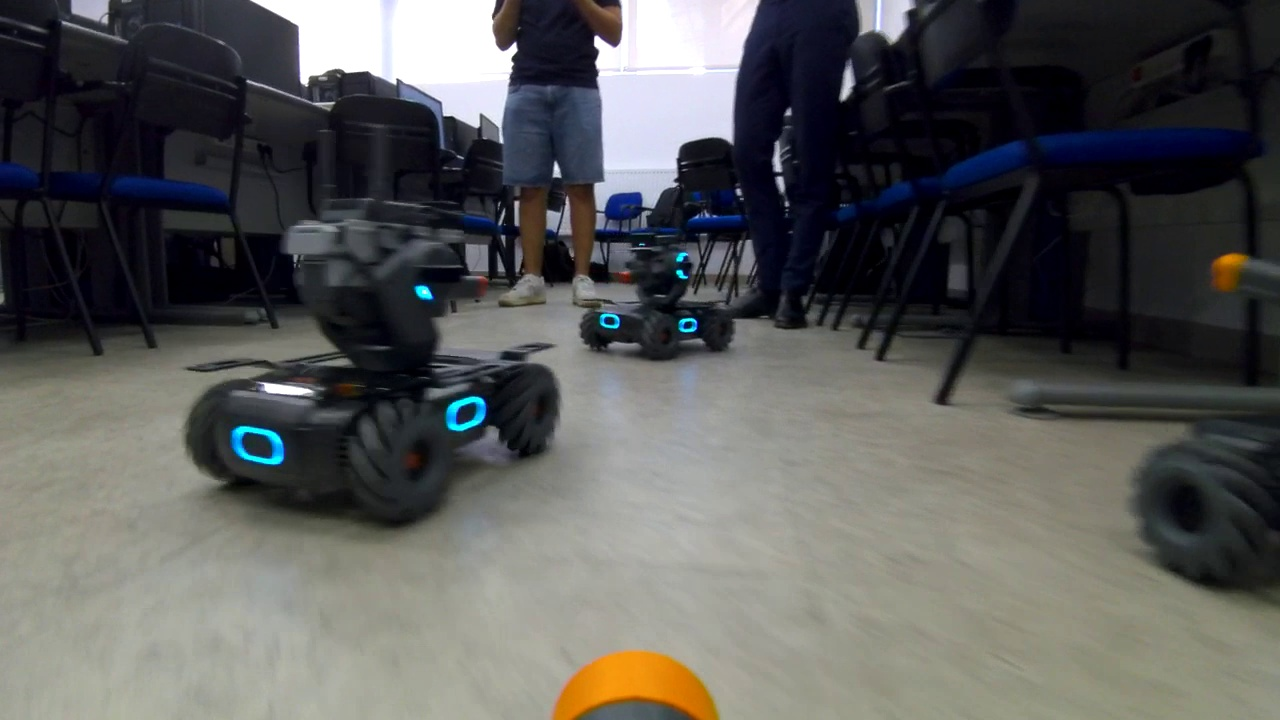robot: (187, 115, 570, 517), (581, 205, 739, 360)
